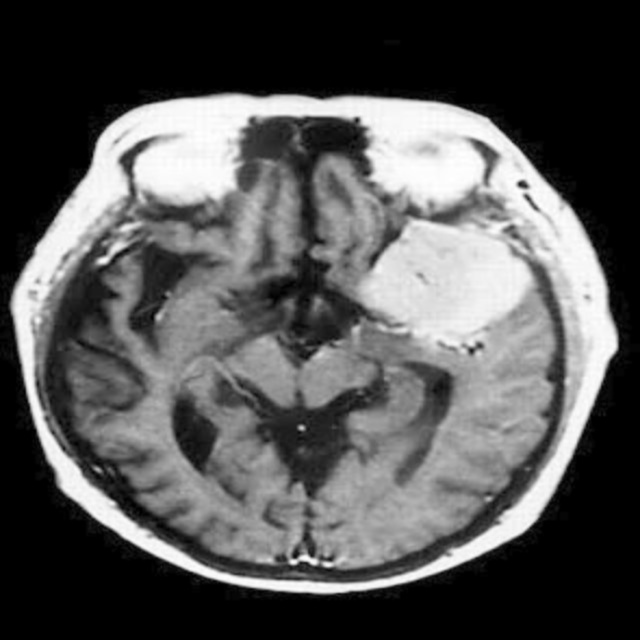meningioma tumor: (345, 210, 538, 359)
